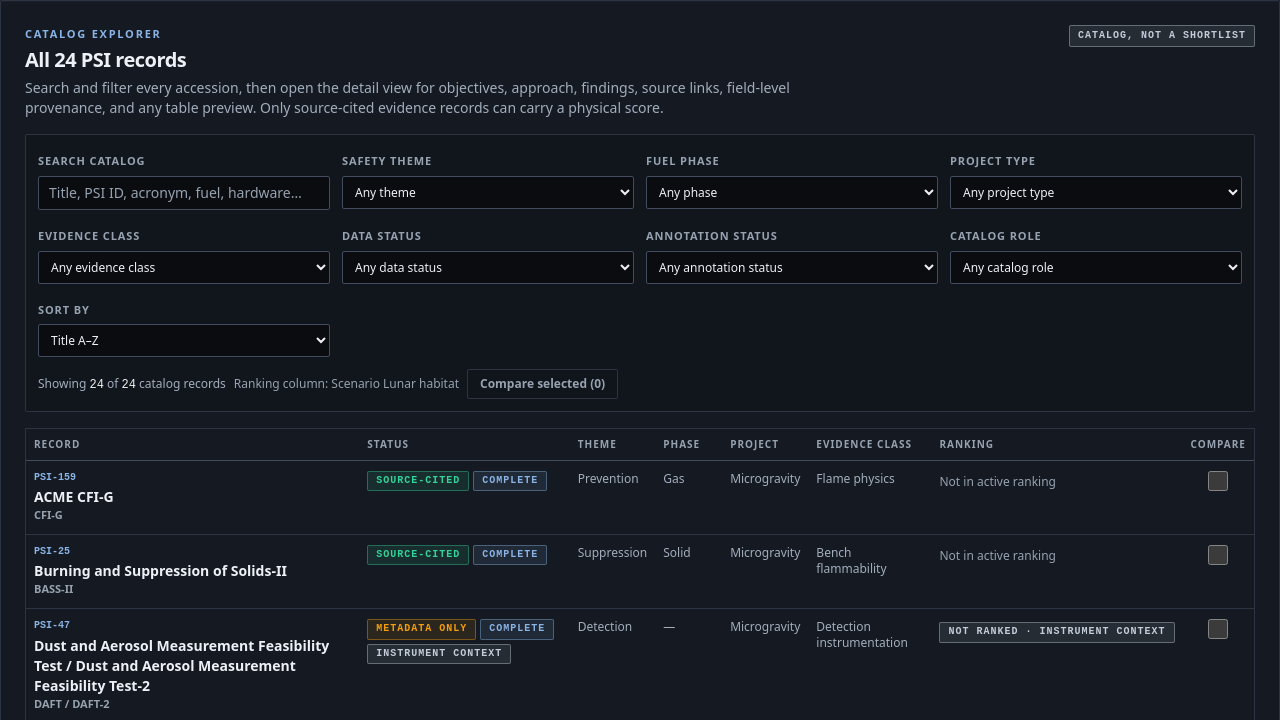
Test: CatalogExplorer — search › narrows the catalog by investigation ID
The image size is (1280, 720).
Type "PSI-25" into the search field labelled "Search catalog" at (184,193), box [38, 176, 330, 210]
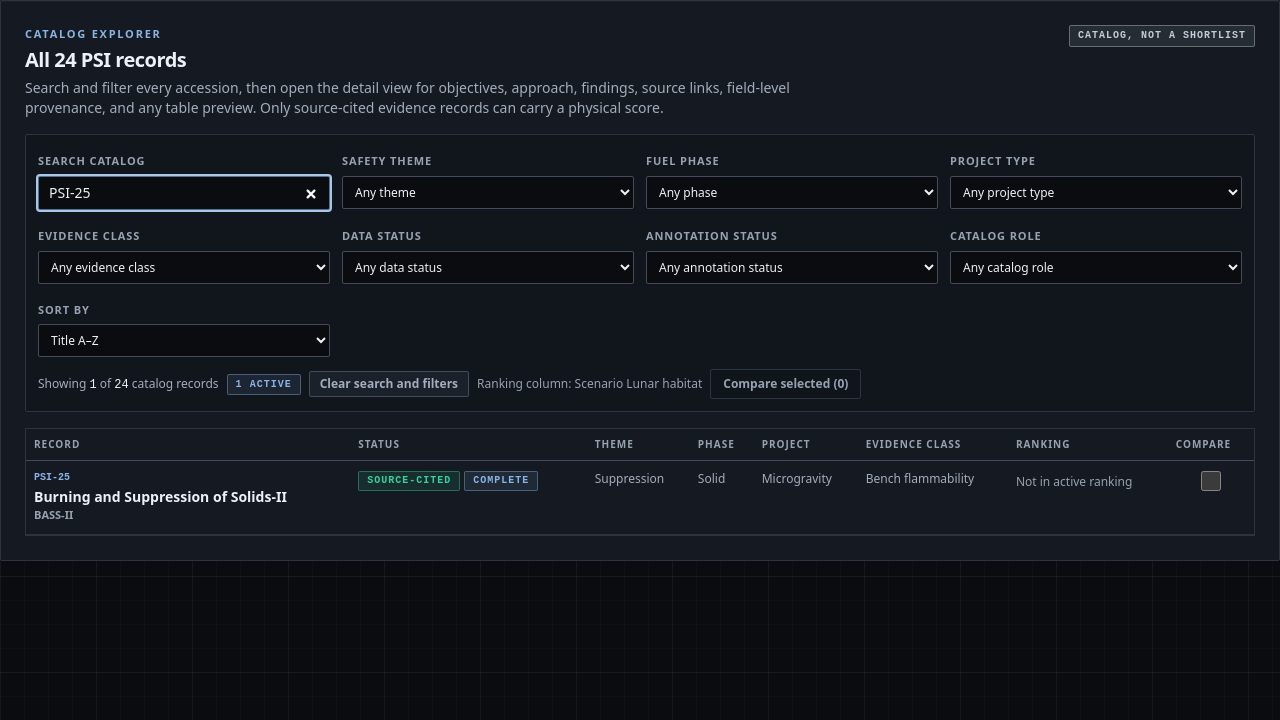
Result: the element showing "Showing 1 of 24 catalog records" is shown at [38, 376, 219, 393]
